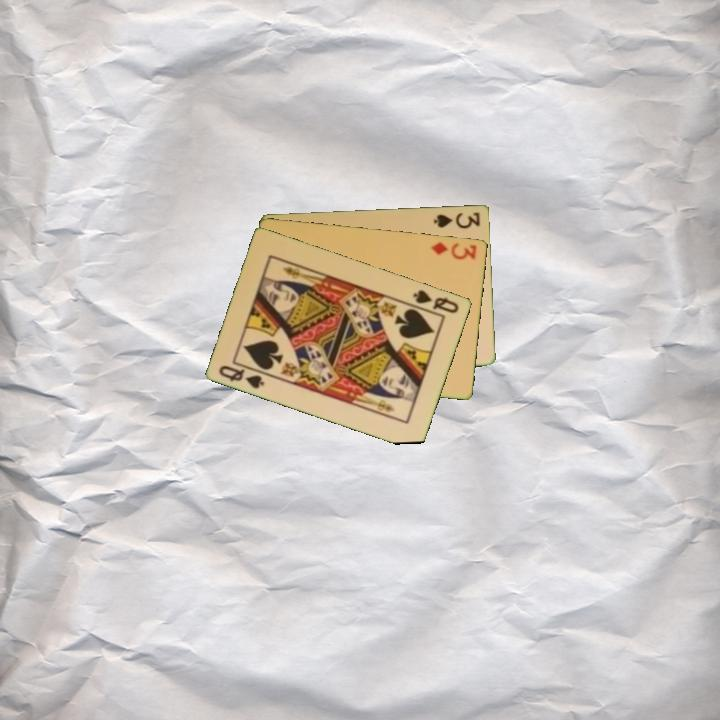3d: (428, 238, 479, 262)
3s: (430, 208, 483, 231)
Qs: (216, 362, 271, 392), (410, 286, 462, 316)
